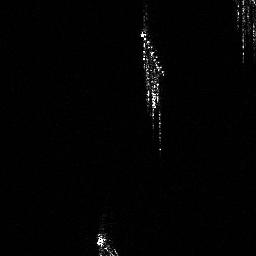ship: (137, 24, 169, 154), (91, 226, 122, 256)
